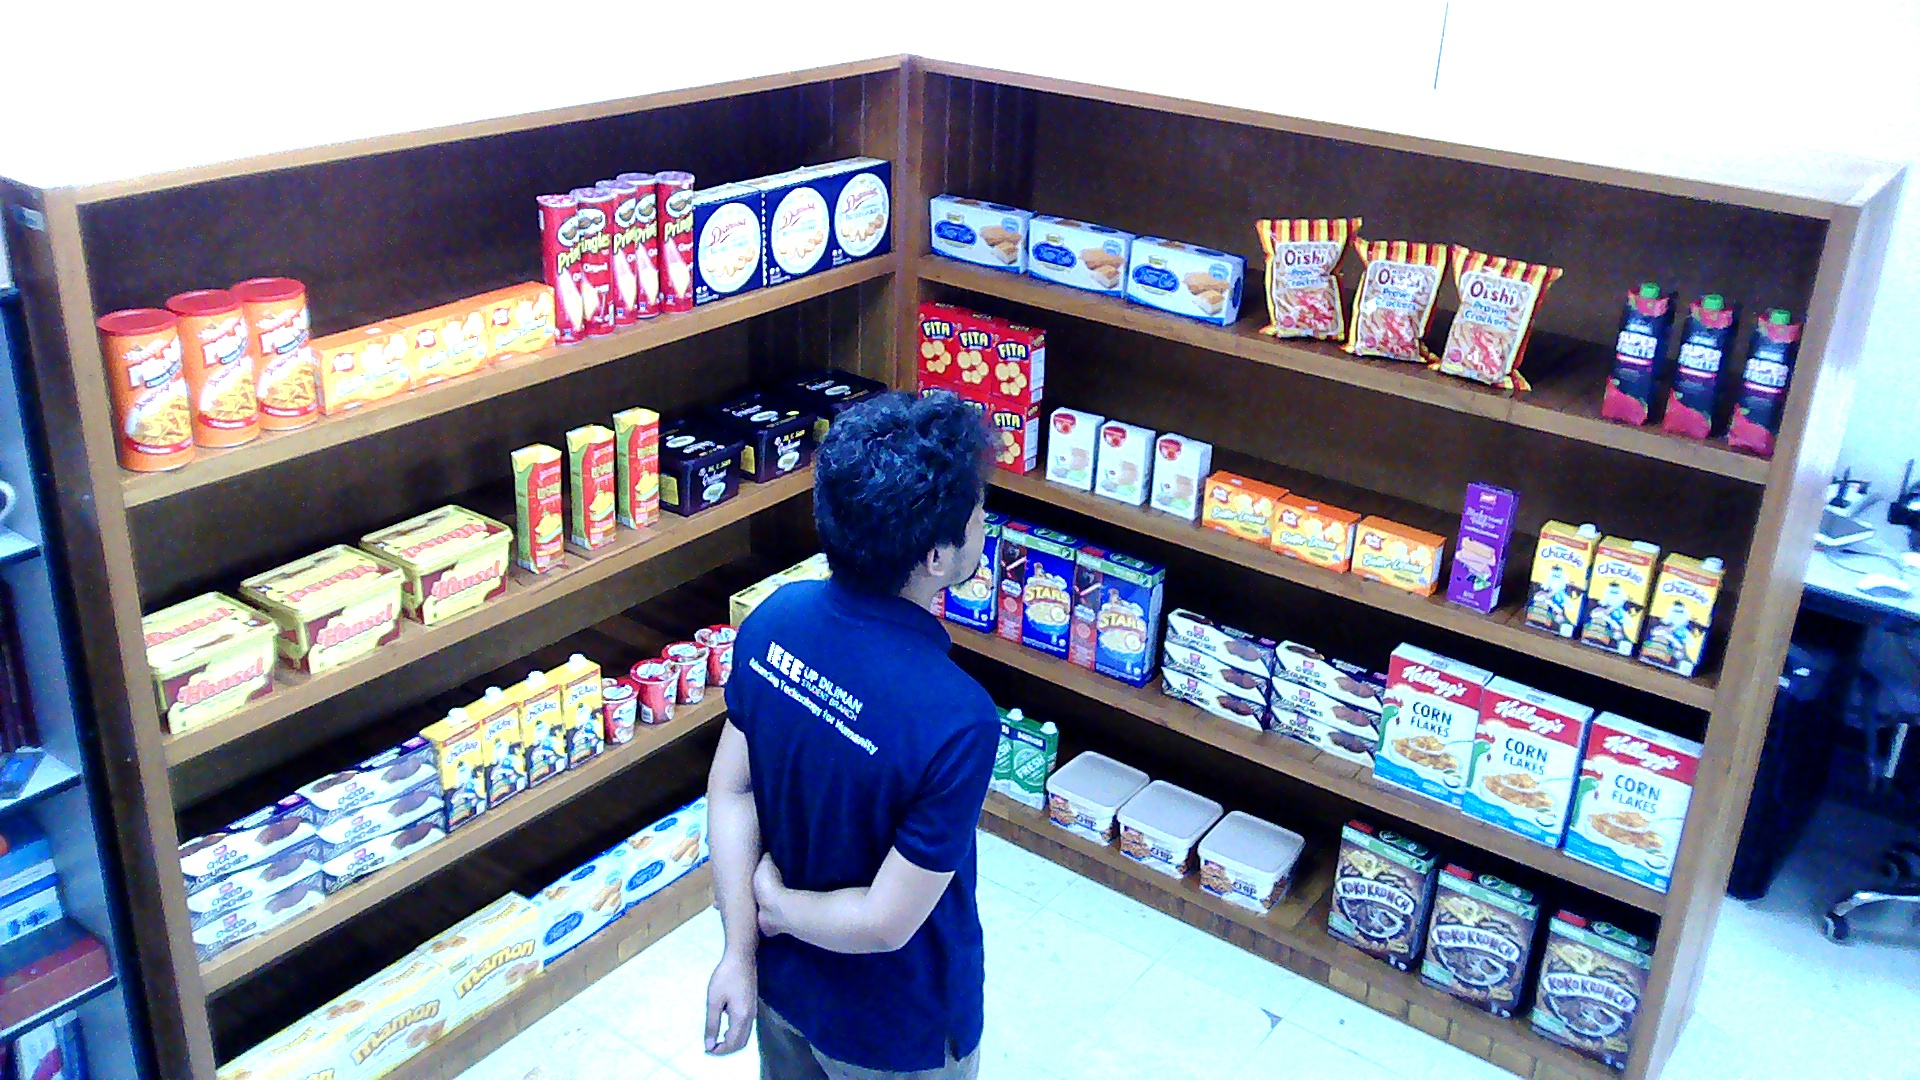Buttercake: (1125, 234, 1245, 326), (528, 850, 624, 963), (606, 805, 699, 911), (1025, 213, 1136, 296), (927, 191, 1035, 272)
Butterlicious: (384, 299, 486, 389), (312, 319, 408, 416), (462, 279, 555, 365), (1350, 515, 1446, 596), (1272, 492, 1362, 573), (1203, 468, 1287, 544)
Camomille: (729, 574, 795, 626), (779, 551, 830, 578)
Choco Crunchies: (177, 792, 315, 895), (296, 736, 437, 828), (192, 873, 324, 965), (186, 837, 318, 929), (318, 778, 444, 864), (323, 807, 446, 893), (1271, 639, 1382, 711), (1163, 607, 1274, 675), (1269, 675, 1377, 738), (1160, 666, 1265, 731), (1160, 639, 1265, 704), (1268, 704, 1373, 767)
Chocolate Chips: (1197, 810, 1305, 913), (1116, 778, 1224, 877), (1044, 749, 1149, 846)
Chuckie: (1638, 551, 1722, 677), (1578, 533, 1659, 655), (1523, 517, 1598, 639), (420, 709, 486, 831), (465, 686, 525, 808), (504, 670, 564, 787), (546, 652, 603, 769)
Danisa: (738, 166, 831, 285), (803, 154, 890, 267), (692, 180, 761, 304)
Fita: (993, 321, 1044, 404), (953, 310, 1004, 391), (918, 297, 966, 378), (987, 396, 1038, 472)
Fresh Milk: (1008, 718, 1056, 810), (987, 704, 1026, 794)
Grahams: (705, 389, 816, 481), (777, 366, 885, 447), (660, 414, 744, 515)
Hansel: (237, 542, 405, 675), (138, 590, 279, 734), (357, 504, 513, 626)
Head: (798, 382, 996, 596)
Honey Stars: (1065, 540, 1164, 686), (996, 515, 1086, 659), (930, 506, 1011, 632)
Kellogg Corn Flakes: (1560, 711, 1704, 893), (1457, 675, 1592, 848), (1371, 640, 1491, 807)
Kimchi Noodles: (630, 657, 678, 722), (660, 638, 708, 701), (692, 623, 737, 684), (600, 675, 636, 743)
Koko Krunch: (1530, 904, 1656, 1071), (1419, 857, 1545, 1019), (1326, 814, 1440, 971)
Locally Mango: (510, 441, 564, 571), (563, 423, 614, 549), (612, 405, 657, 531)
Mamon: (309, 947, 453, 1075), (417, 890, 543, 1025), (216, 1014, 345, 1077)
Oishi Prawn: (1425, 241, 1563, 389), (1335, 229, 1449, 362), (1254, 216, 1362, 340)
Pik-nik: (95, 306, 194, 470), (164, 288, 257, 445), (231, 276, 318, 429)
Pringles: (537, 193, 585, 344), (570, 187, 615, 335), (614, 171, 659, 317), (594, 178, 636, 324), (653, 171, 692, 313)
Super Fruits: (1722, 306, 1803, 459), (1662, 295, 1740, 439), (1601, 281, 1676, 423)
Wafer: (1445, 479, 1520, 612)
iHop: (1149, 432, 1212, 520), (1095, 420, 1155, 503), (1046, 405, 1103, 488)
